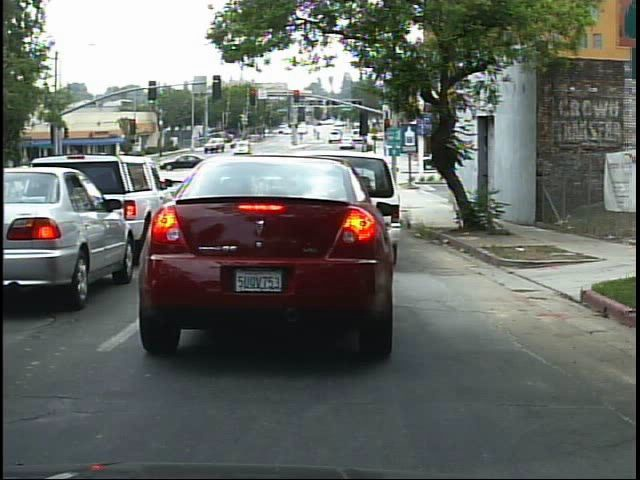person: (293, 141, 315, 190), (386, 158, 409, 199)
